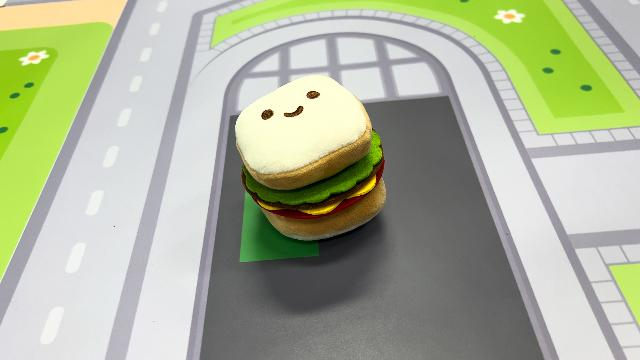sandwich: (233, 72, 389, 242)
